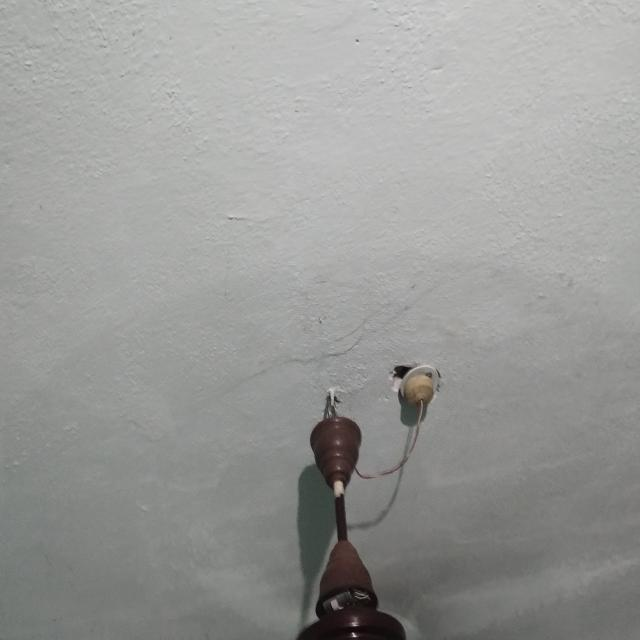fan_on: (1, 273, 640, 640)
